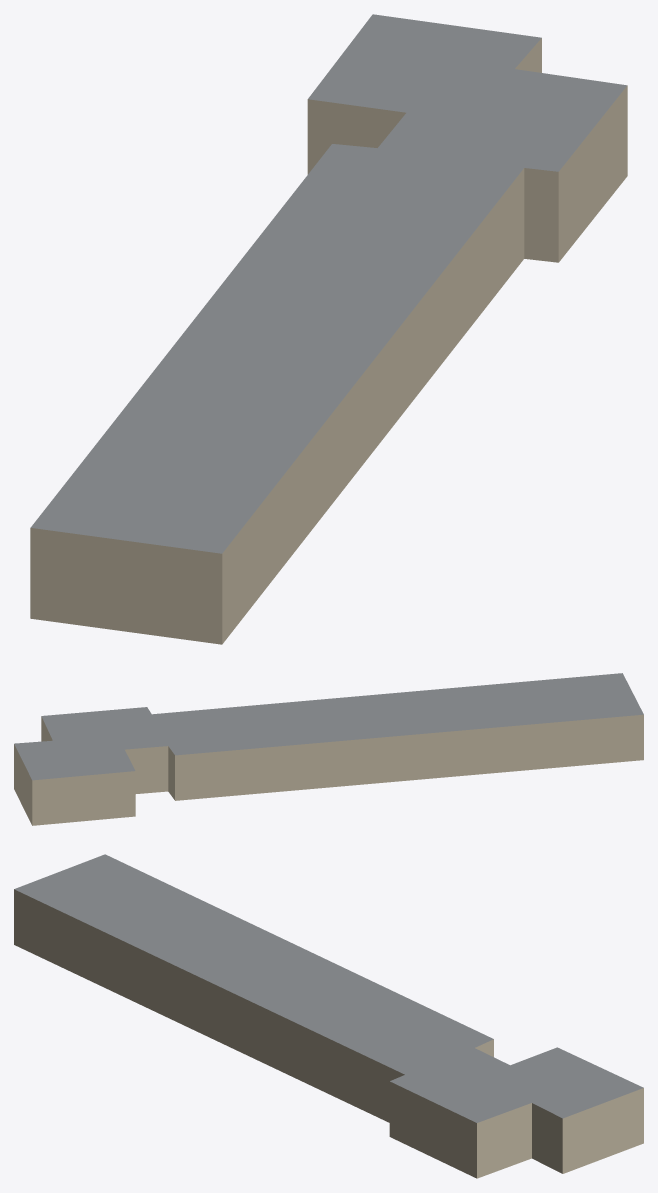
3 views of the same model, one above another, from view 1: azimuth 30°, elevation 25°; view 2: azimuth 150°, elevation 25°; view 3: azimuth 270°, elevation 25° (orthographic). The views are drawn at different scales.
Parts seen in each view (by area): view 1: tuile; view 2: tuile; view 3: tuile.
Boxes of the visible parts, x1,y1,x2,y2 form: tuile: [30, 14, 627, 644]; tuile: [14, 673, 643, 825]; tuile: [14, 854, 643, 1178].
Size of the model in its own units: 82.3 by 7.94 by 81.5.
